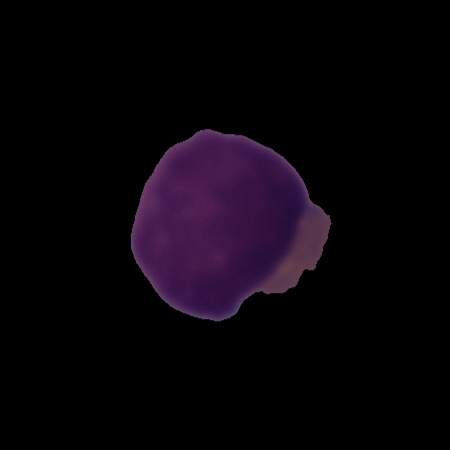HEM: (126, 124, 335, 324)
